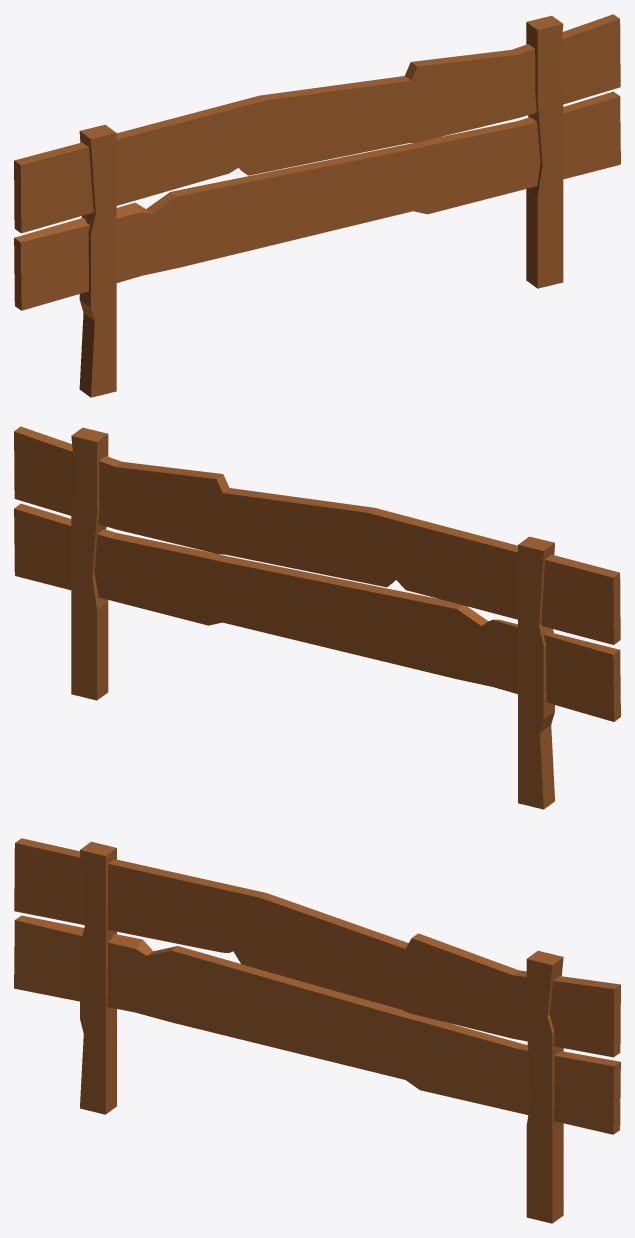
File: env_fence.glb
The picture shows the model from 3 angles, top to bottom: view 1: azimuth 30°, elevation 25°; view 2: azimuth 150°, elevation 25°; view 3: azimuth 330°, elevation 25°; orthographic projection.
Visible parts, largest first — view 1: env_fence; view 2: env_fence; view 3: env_fence.
Part boxes in pixels (x1,y1,x2,y2): env_fence: (14, 14, 620, 397); env_fence: (14, 426, 620, 809); env_fence: (14, 838, 620, 1223).
Bounding box in the file's own units: 1.42 × 0.5853 × 0.0465.
